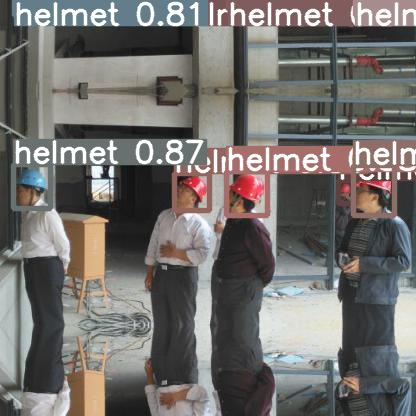helmet: (353, 165, 394, 215), (226, 171, 267, 215), (13, 164, 50, 208), (174, 173, 209, 210), (355, 0, 396, 15), (14, 0, 49, 15), (228, 0, 269, 9), (338, 180, 353, 203), (170, 0, 212, 7)
